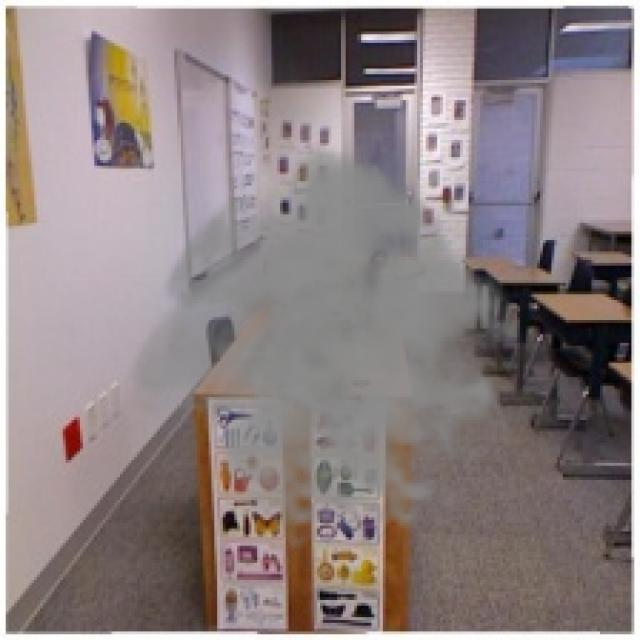smoke: (123, 143, 537, 554)
